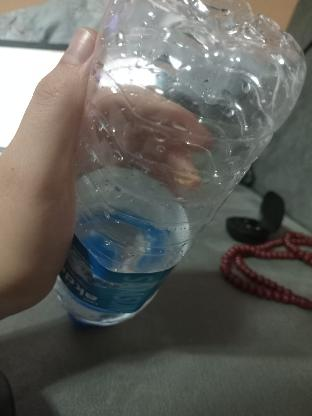Plastic Bottle: (56, 0, 306, 362)
